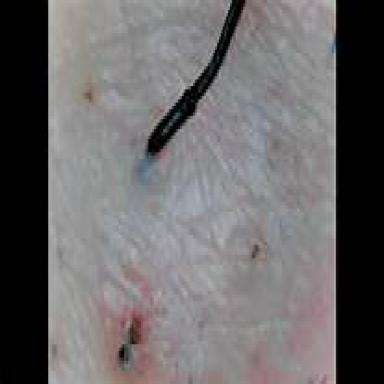Tungiasis: (134, 0, 247, 188), (112, 311, 154, 383)
